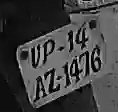1: (62, 62, 72, 88), (66, 29, 75, 56)
4: (76, 22, 90, 50), (69, 61, 84, 84)
6: (89, 47, 103, 73)
7: (79, 52, 91, 76)
A: (31, 75, 47, 103)
P: (42, 40, 54, 66)
U: (29, 44, 40, 70)
Z: (43, 68, 59, 93)
